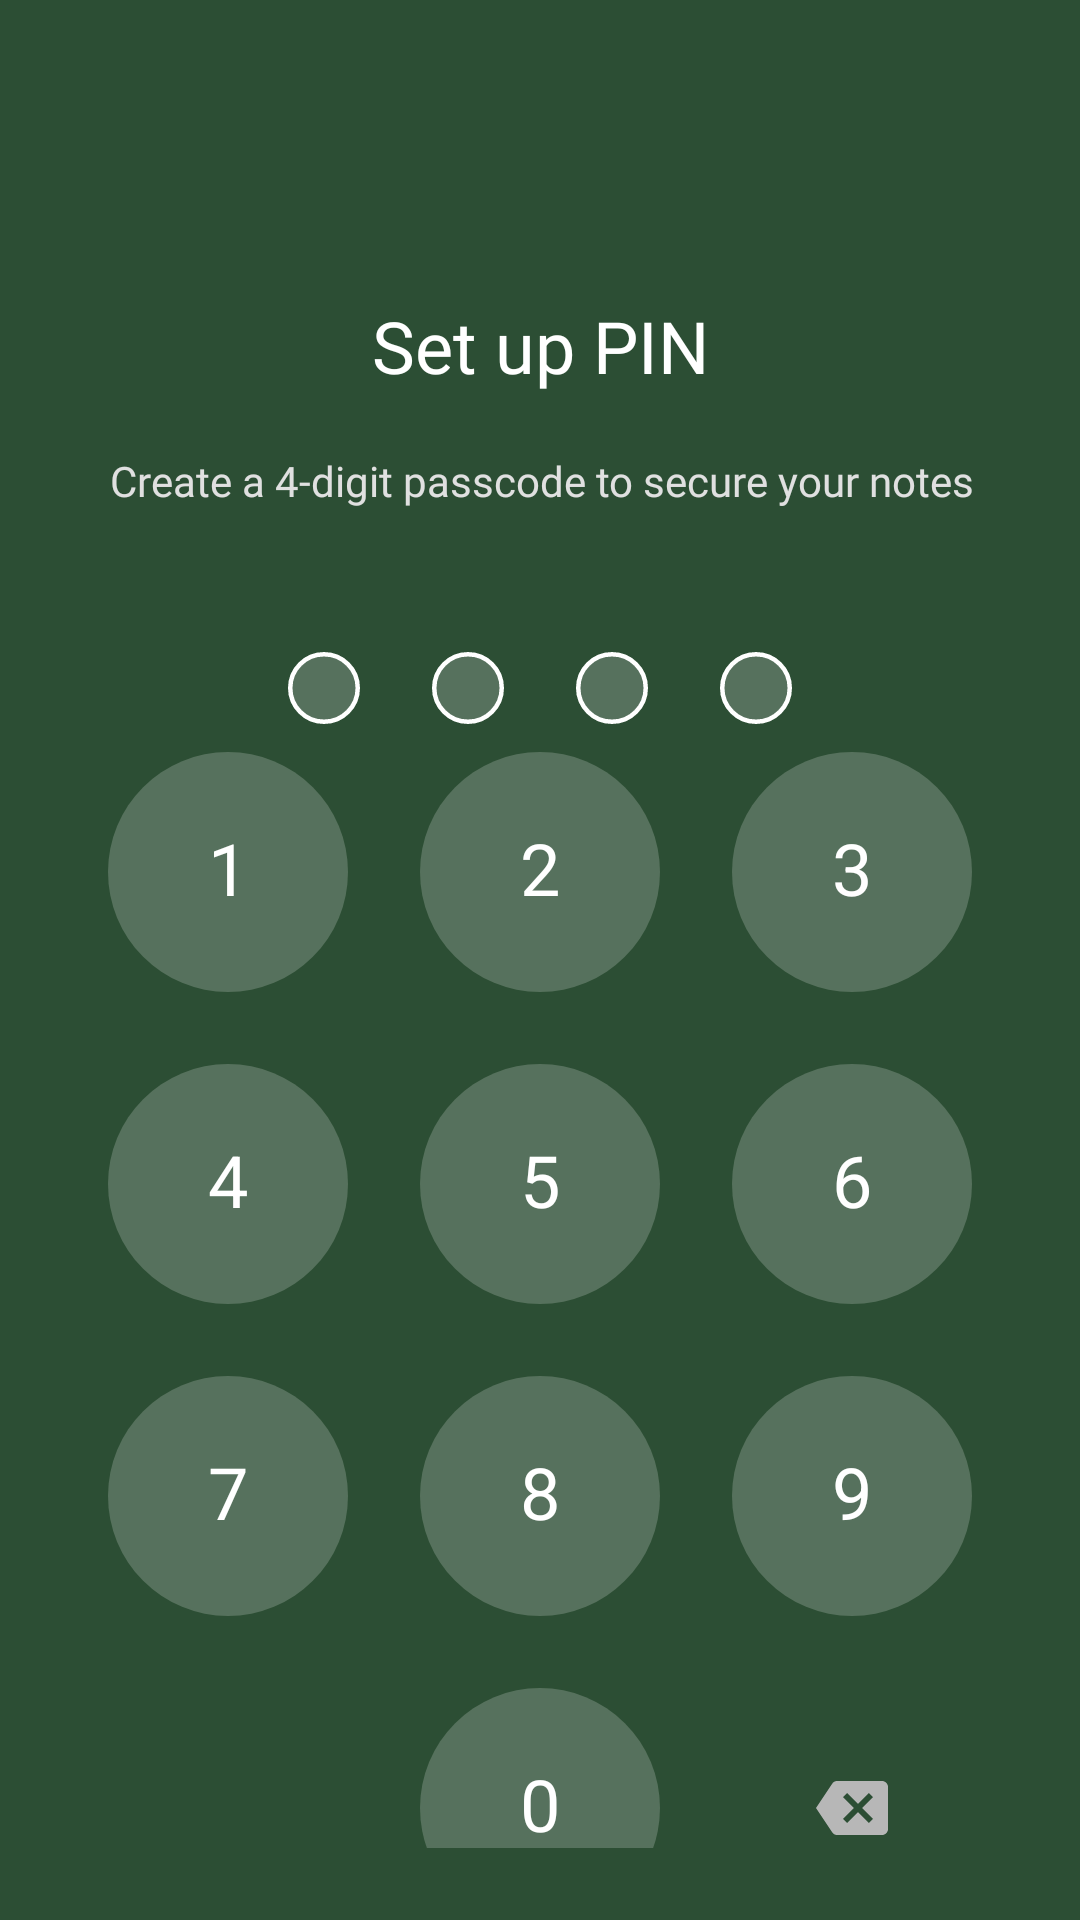

Where to tap for icons on this 1080×1920 app screen, as [x,y]:
Backspace: [852,1808]
